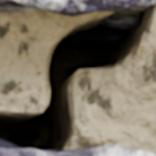brick: (0, 0, 155, 16), (0, 146, 155, 155)
crack: (0, 2, 155, 153)
